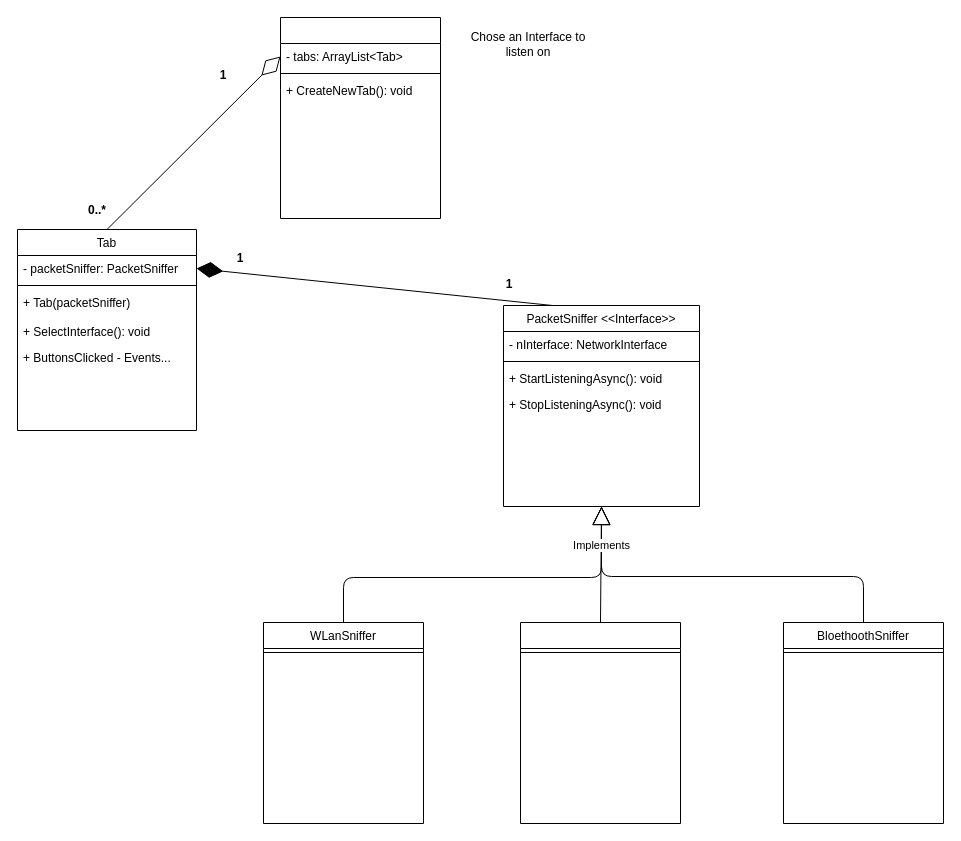
Some shapes in this 961 by 841 pixel diagram are drawn without their labels. Each missing label, with the box of its shape:
EthernetSniffer: (520, 622, 680, 824)
MainMenu (Form): (280, 16, 440, 218)
